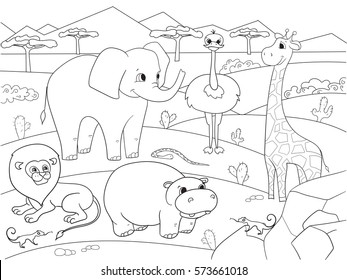animal: (254, 26, 335, 203), (103, 161, 220, 239), (183, 19, 246, 161), (5, 143, 105, 227), (230, 212, 286, 239), (7, 226, 53, 251)
elephant: (40, 45, 183, 153)
tree: (1, 30, 53, 76), (154, 24, 199, 59), (59, 24, 99, 55), (231, 25, 263, 56)
